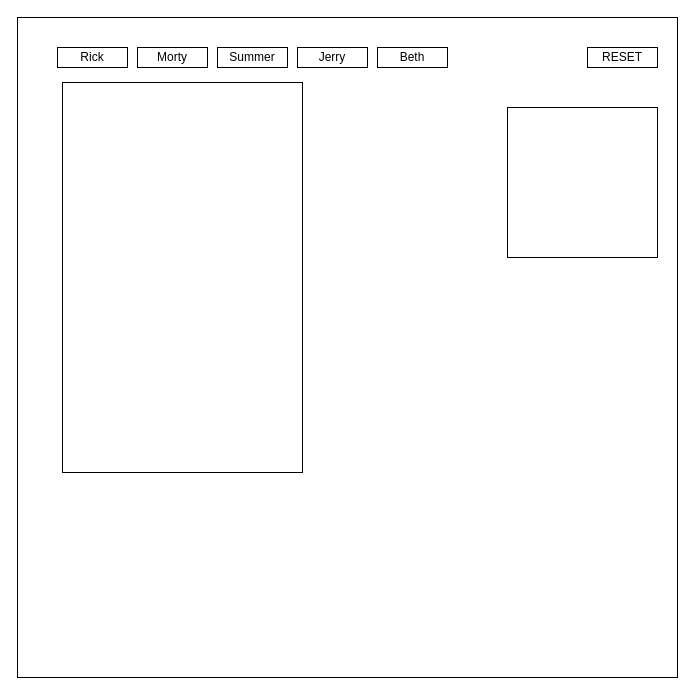
This 695x695 diagram has some shape labels left out. Here are the shapes that lost their labels. From the top down, the centre of each, then its label:
At point (582, 182): "PICTURE POPUP (MODAL)".
At point (182, 277): "LIST THE STATS RETRIEVED FROM API".
